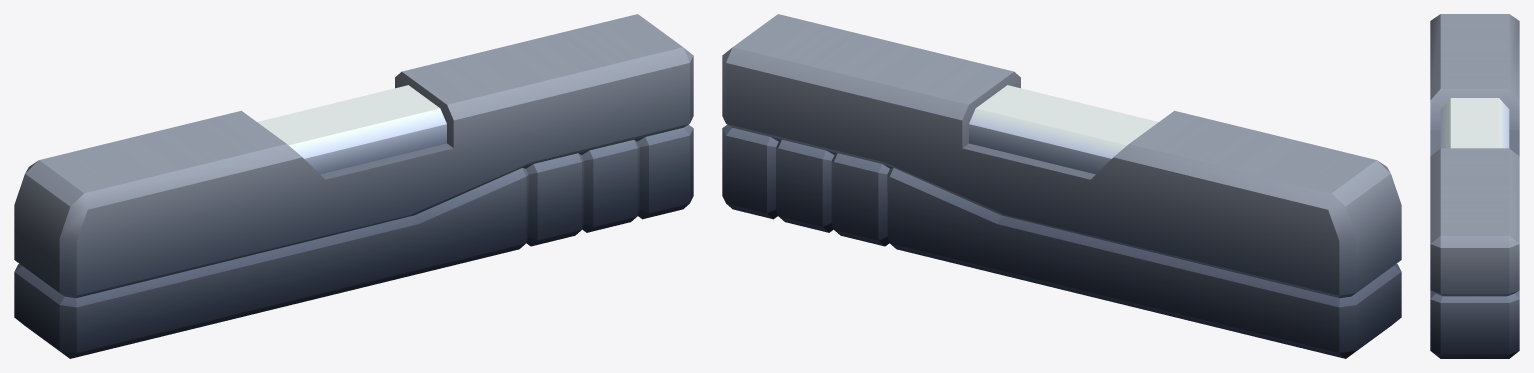
The model's file is Body3.FBX.
3 renders of one model, left to right at view 1: azimuth 30°, elevation 25°; view 2: azimuth 150°, elevation 25°; view 3: azimuth 270°, elevation 25°, orthographic. The views are drawn at different scales.
Parts seen in each view (by area): view 1: Box003; view 2: Box003; view 3: Box003.
Boxes of the visible parts, x1,y1,x2,y2 form: Box003: (14, 14, 693, 358); Box003: (722, 14, 1401, 358); Box003: (1430, 14, 1519, 358).
Size of the model in its own units: 22.74 by 5.56 by 3.65.
